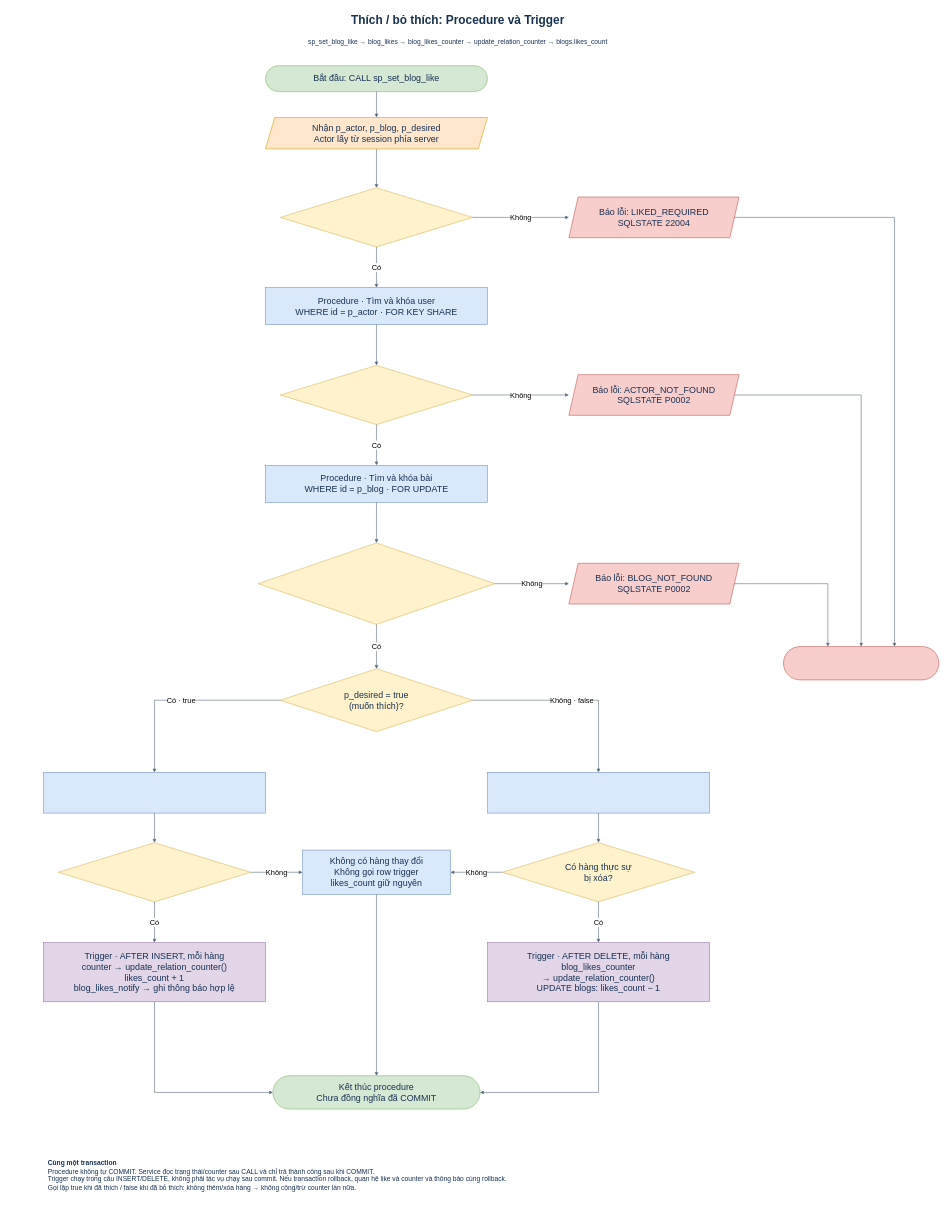
The diagram is 945 pixels wide and 1208 high, and some of its shapes have lost their labels. Each missing label, with the box of its shape:
Có hàng thực sự được thêm?: (58, 842, 251, 902)
Kết thúc bằng lỗi Caller xử lý transaction lỗi: (783, 646, 939, 680)
p_desired khác NULL?: (280, 187, 473, 247)
Procedure · DELETE FROM blog_likes WHERE blog_id và user_id khớp: (487, 772, 710, 813)
Procedure · INSERT INTO blog_likes ON CONFLICT DO NOTHING: (43, 772, 266, 813)
Tìm thấy bài và (published = true hoặc author_id = p_actor)?: (258, 543, 495, 624)
Tìm thấy user có id = p_actor?: (280, 365, 473, 425)
